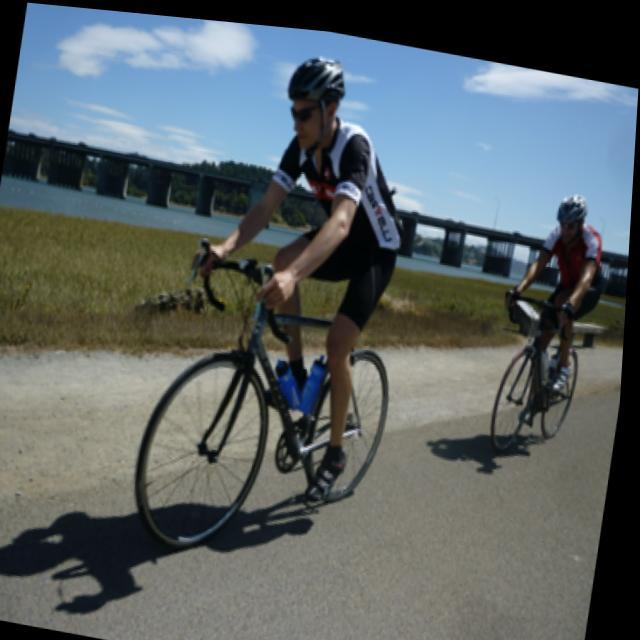Helmet: (279, 44, 354, 160)
